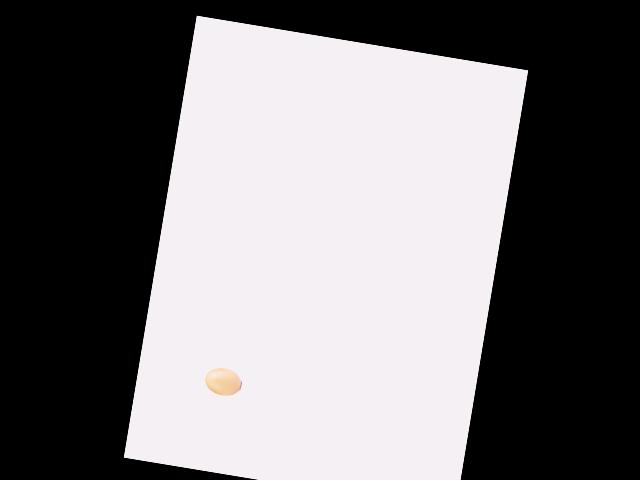egg: (202, 366, 243, 398)
